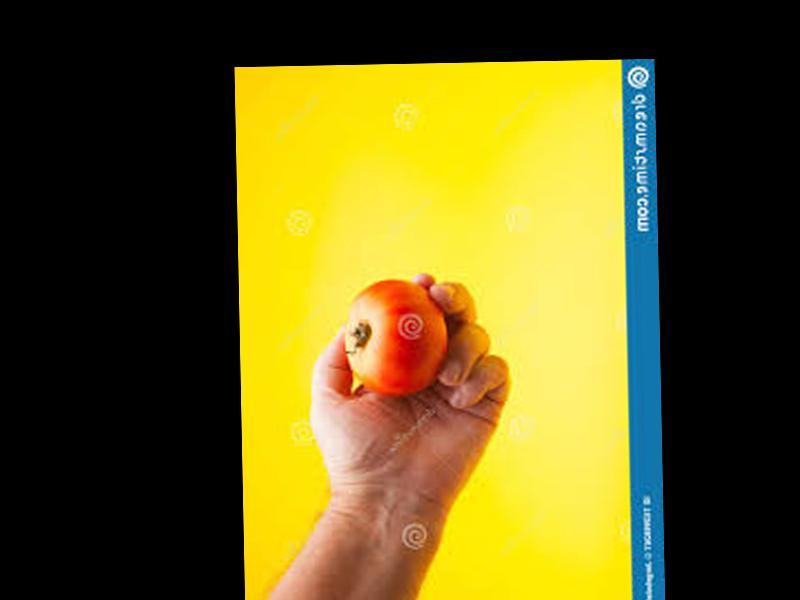Tomato: (344, 279, 448, 396)
